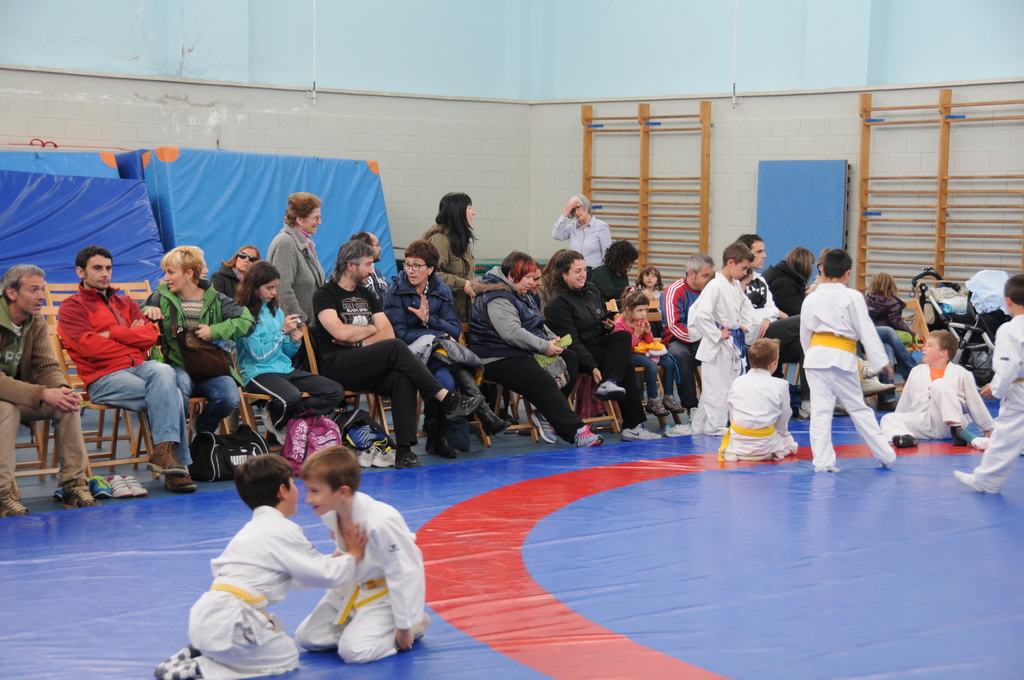Person: (0, 192, 1024, 680)
